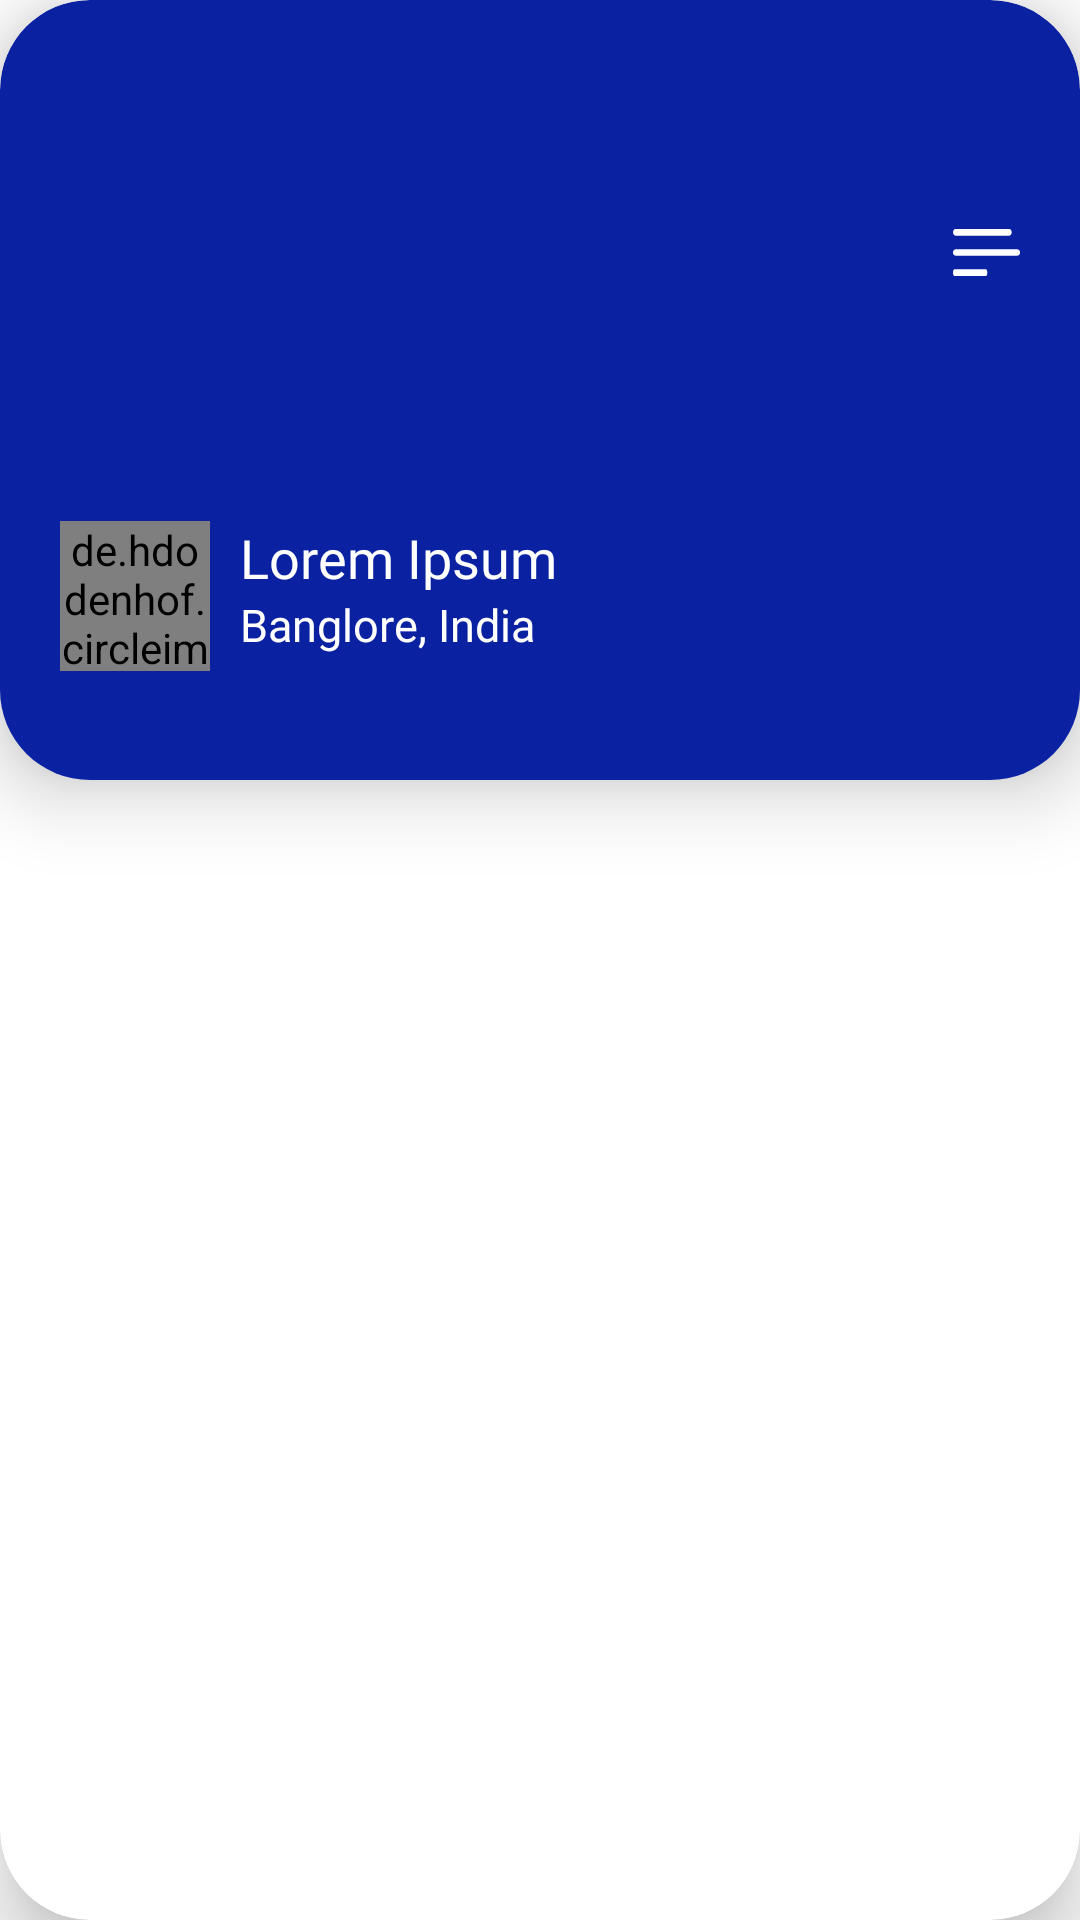

Where icons sit on this 1080x1920 app screen, as (x1, y1, x2, y2):
menu: (953, 229, 1020, 276)
